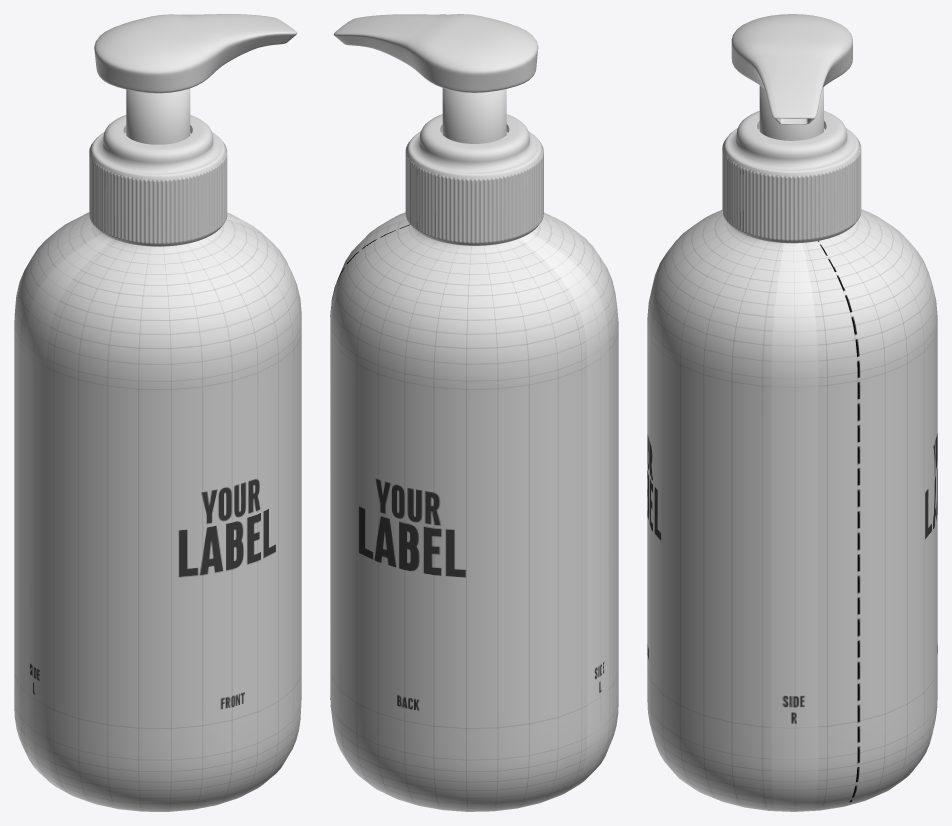
File: SOAP-TURBOSQUID-ID002_v1.gltf
3 renders of one model, left to right at view 1: azimuth 30°, elevation 25°; view 2: azimuth 150°, elevation 25°; view 3: azimuth 270°, elevation 25°, orthographic.
Visible parts, largest first — view 1: Obj.007; view 2: Obj.007; view 3: Obj.007.
Part boxes in pixels (left/top/right/bottom): Obj.007: left=14, top=14, right=301, bottom=811; Obj.007: left=330, top=14, right=618, bottom=811; Obj.007: left=647, top=14, right=937, bottom=811.
Size of the model in its own units: 0.0714 by 0.196 by 0.0697.
2 materials, 1 textured.
